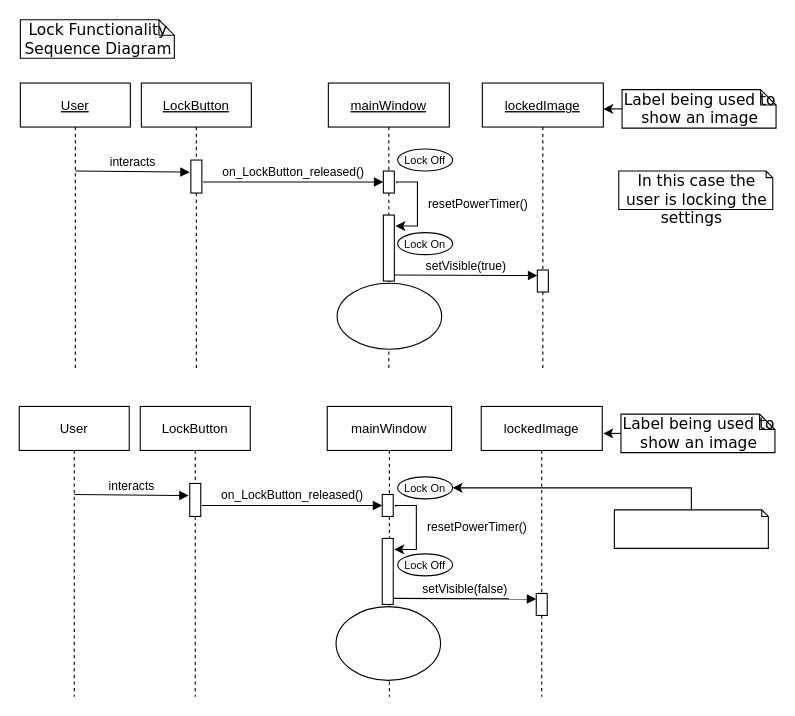
The diagram is 795 pixels wide and 716 high, and some of its shapes have lost their labels. The shapes that lost their labels are listed below. From the top down, each one's box as (x1, y1, x2, y2) in pixels, then its label:
(336, 282, 442, 349): lockState = true
(613, 509, 768, 548): In this case the user is unlocking the settings
(335, 606, 441, 680): lockState = false
